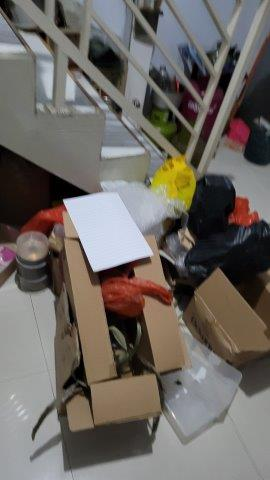kertas: (59, 191, 156, 271)
